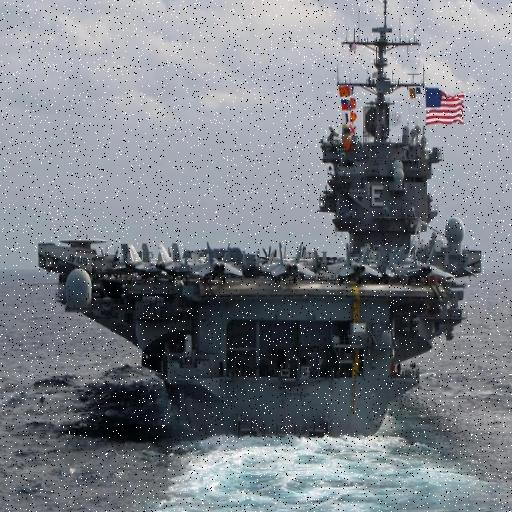Portanaves: (34, 1, 489, 449)
